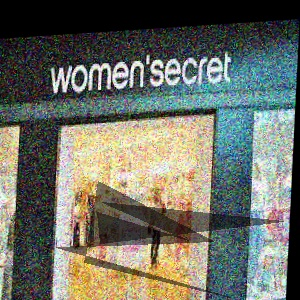women_secret: (199, 34, 275, 67)
